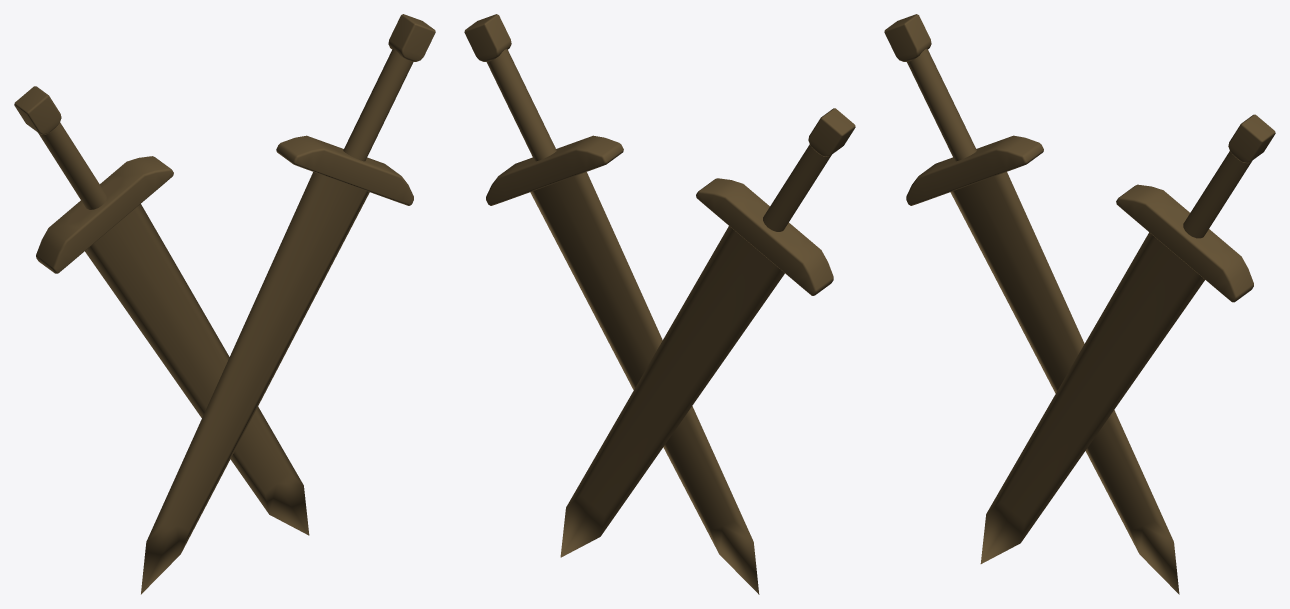
The model's file is MapSwords_a01.fbx.
The picture shows the model from 3 angles, left to right: view 1: azimuth 30°, elevation 25°; view 2: azimuth 150°, elevation 25°; view 3: azimuth 330°, elevation 25°; orthographic projection.
Parts seen in each view (by area): view 1: Swords_a01; view 2: Swords_a01; view 3: Swords_a01.
Part boxes in pixels (x1=…): Swords_a01: x1=14, y1=14, x2=435, y2=594; Swords_a01: x1=464, y1=14, x2=855, y2=594; Swords_a01: x1=884, y1=14, x2=1275, y2=594.
Bounding box in the file's own units: 2.07 × 2.58 × 0.3111.
